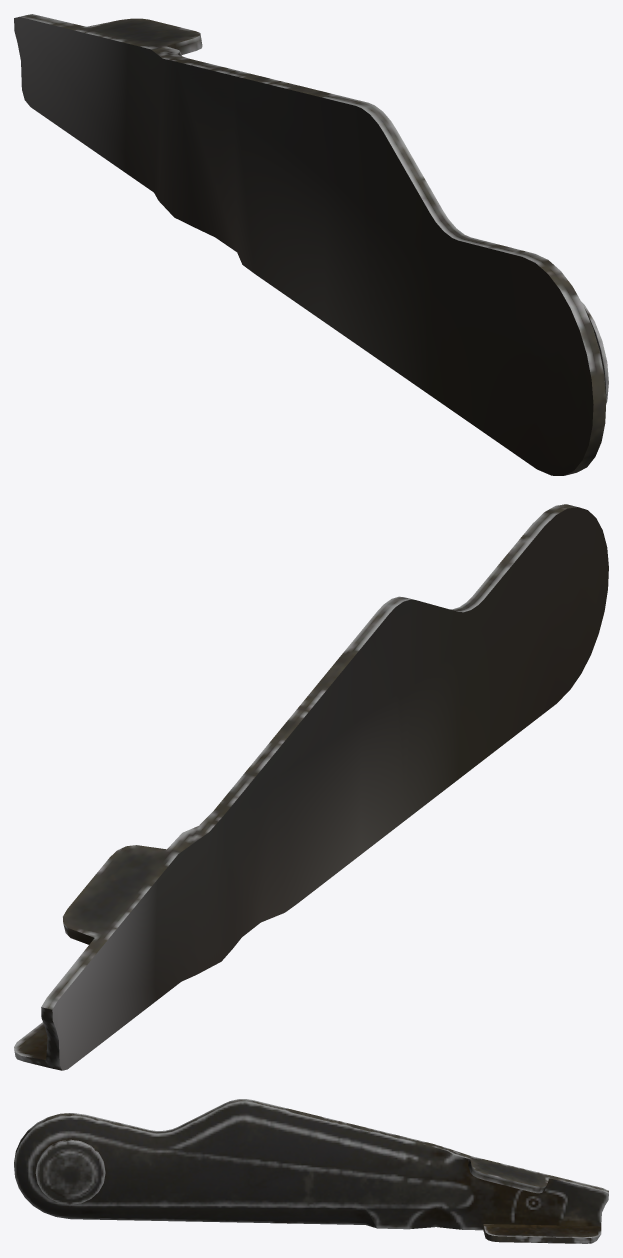
The model's file is SELECTOR.gltf.
3 renders of one model, top to bottom at view 1: azimuth 30°, elevation 25°; view 2: azimuth 150°, elevation 25°; view 3: azimuth 270°, elevation 25°, orthographic. The views are drawn at different scales.
Visible parts, largest first — view 1: SELECTOR; view 2: SELECTOR; view 3: SELECTOR.
Part boxes in pixels (bbox=[...]): SELECTOR: bbox=[14, 14, 608, 475]; SELECTOR: bbox=[14, 504, 608, 1070]; SELECTOR: bbox=[14, 1099, 608, 1243].
Size of the model in its own units: 0.00879 by 0.0296 by 0.1251.
1 material, 1 textured.
